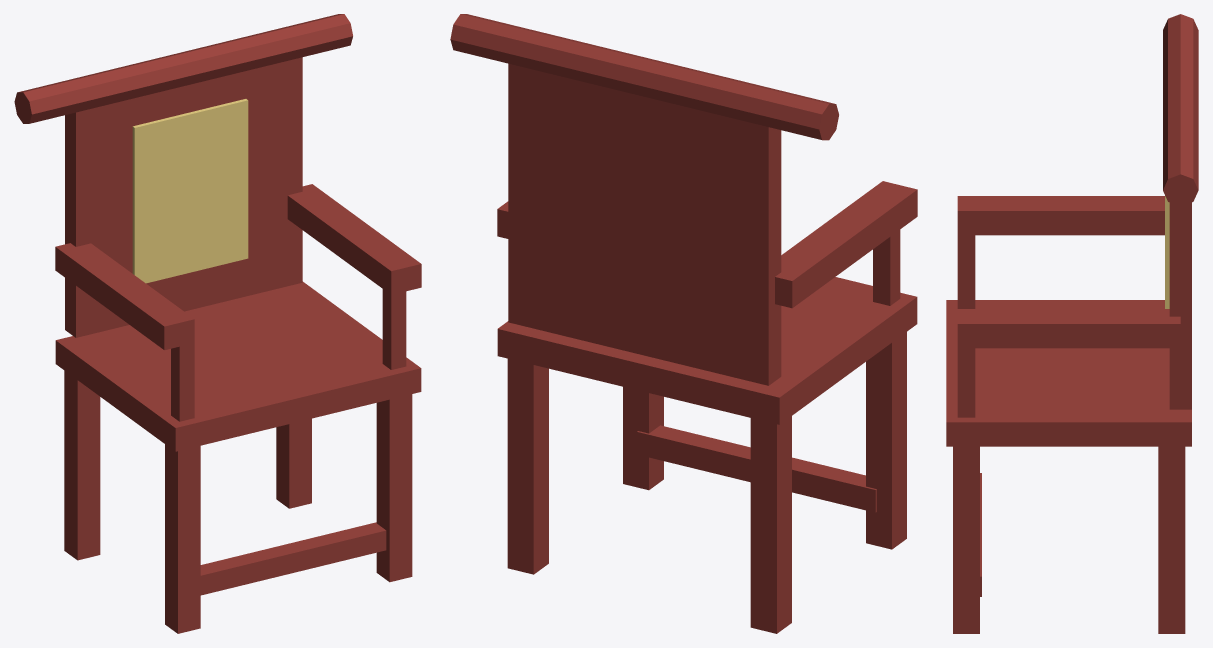
The model's file is cn_armchair.glb.
3 views of the same model, side by side, from view 1: azimuth 30°, elevation 25°; view 2: azimuth 150°, elevation 25°; view 3: azimuth 270°, elevation 25° (orthographic). The views are drawn at different scales.
Visible parts, largest first — view 1: cn_armchair; view 2: cn_armchair; view 3: cn_armchair.
Part boxes in pixels (x1,y1,x2,y2): cn_armchair: [14, 14, 421, 633]; cn_armchair: [450, 14, 917, 633]; cn_armchair: [946, 14, 1198, 633].
Bounding box in the file's own units: 0.85 × 1.19 × 0.565.
